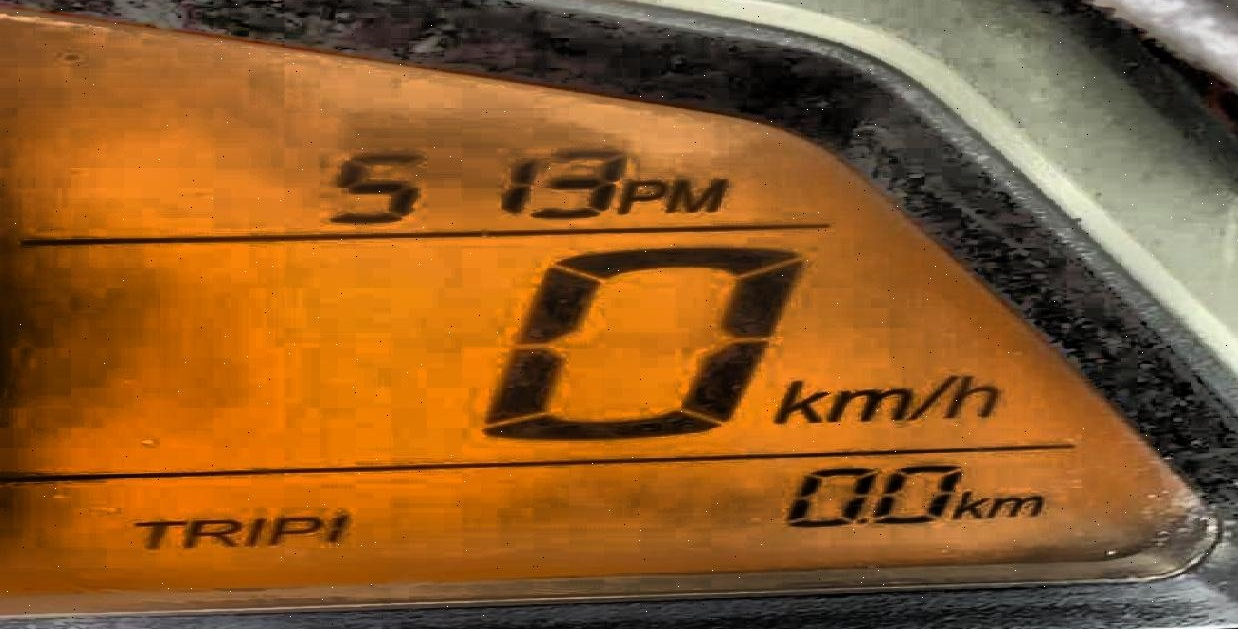-: (853, 515, 868, 528)
0: (479, 242, 804, 442), (784, 465, 866, 525), (878, 463, 958, 520)
1: (493, 149, 539, 211), (326, 508, 351, 545)
3: (535, 143, 622, 219)
5: (328, 147, 422, 227)
X: (824, 388, 904, 423), (771, 376, 822, 425), (951, 373, 1000, 420), (906, 372, 951, 423), (664, 176, 726, 211), (184, 515, 239, 550), (131, 515, 180, 554), (617, 176, 664, 214), (271, 511, 322, 546), (986, 493, 1044, 518), (242, 511, 268, 550), (953, 489, 982, 523)
